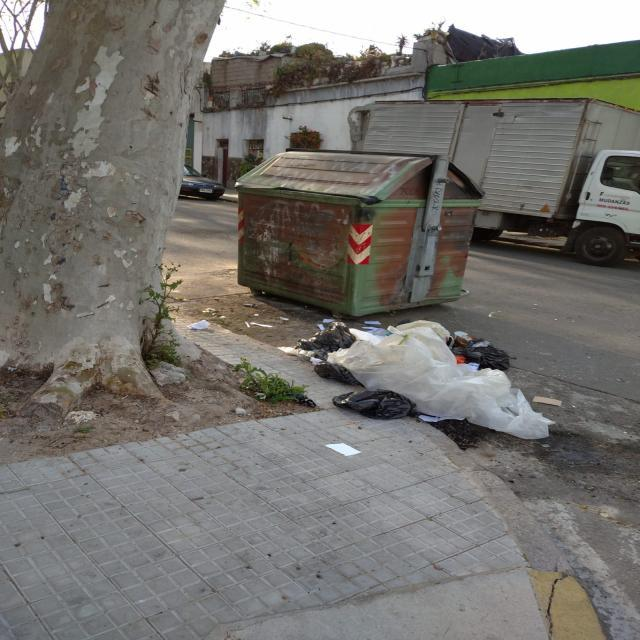garbage: (274, 293, 582, 491), (164, 305, 238, 356)
